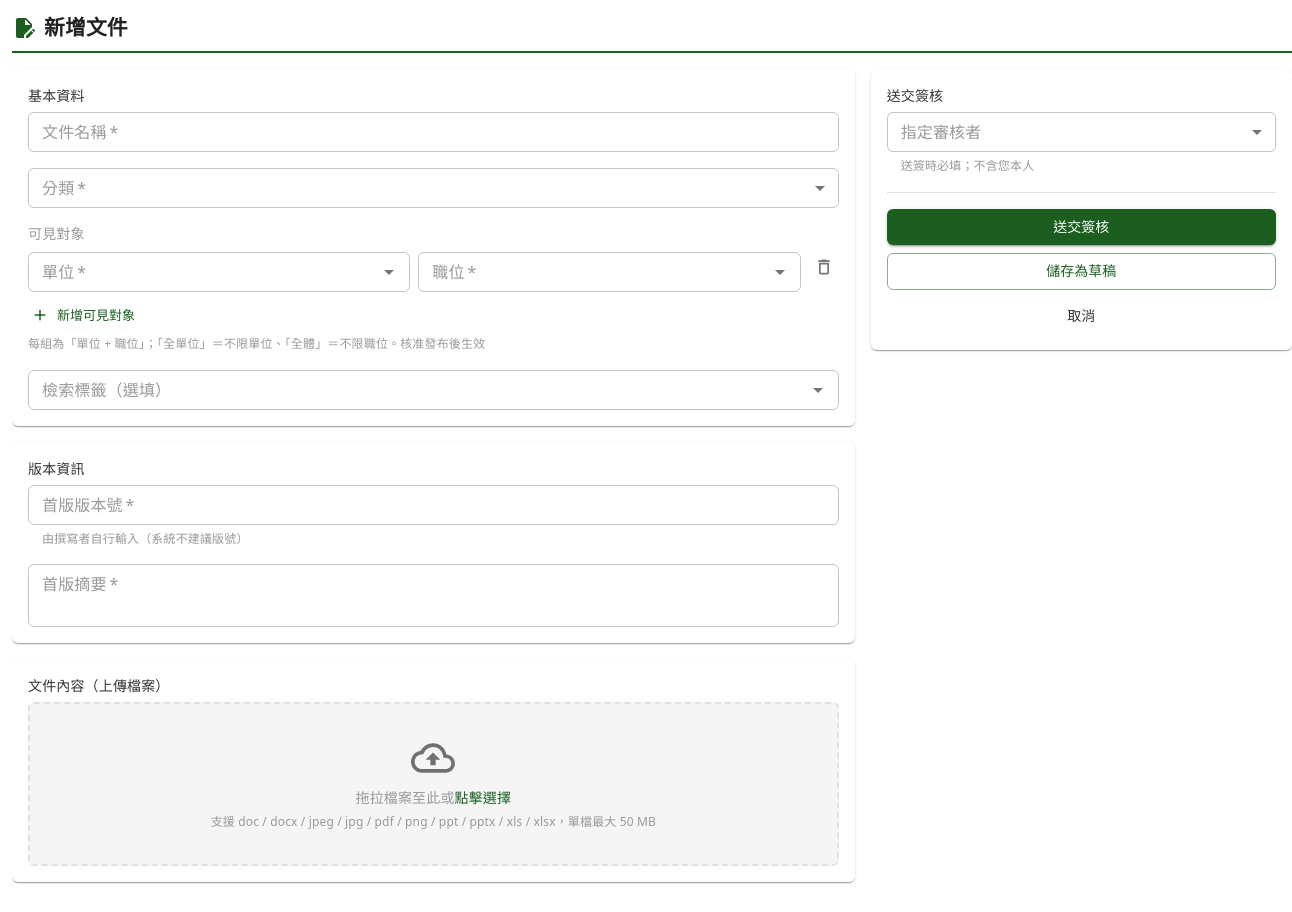
Test: DmEditorPage 文件新增與編輯（DM08） › 分類選『訓練教材』→ 隱藏可見對象欄並說明不需設定（#377）
This screenshot has width=1292, height=912.
Expected: the heading "新增文件" is shown, [44,12,128,43]
Expected: the button "新增可見對象" is shown, [28,300,140,331]
Step 1. Click the dropdown named "分類" next to "分類" → (433, 188), box [28,168,839,208]
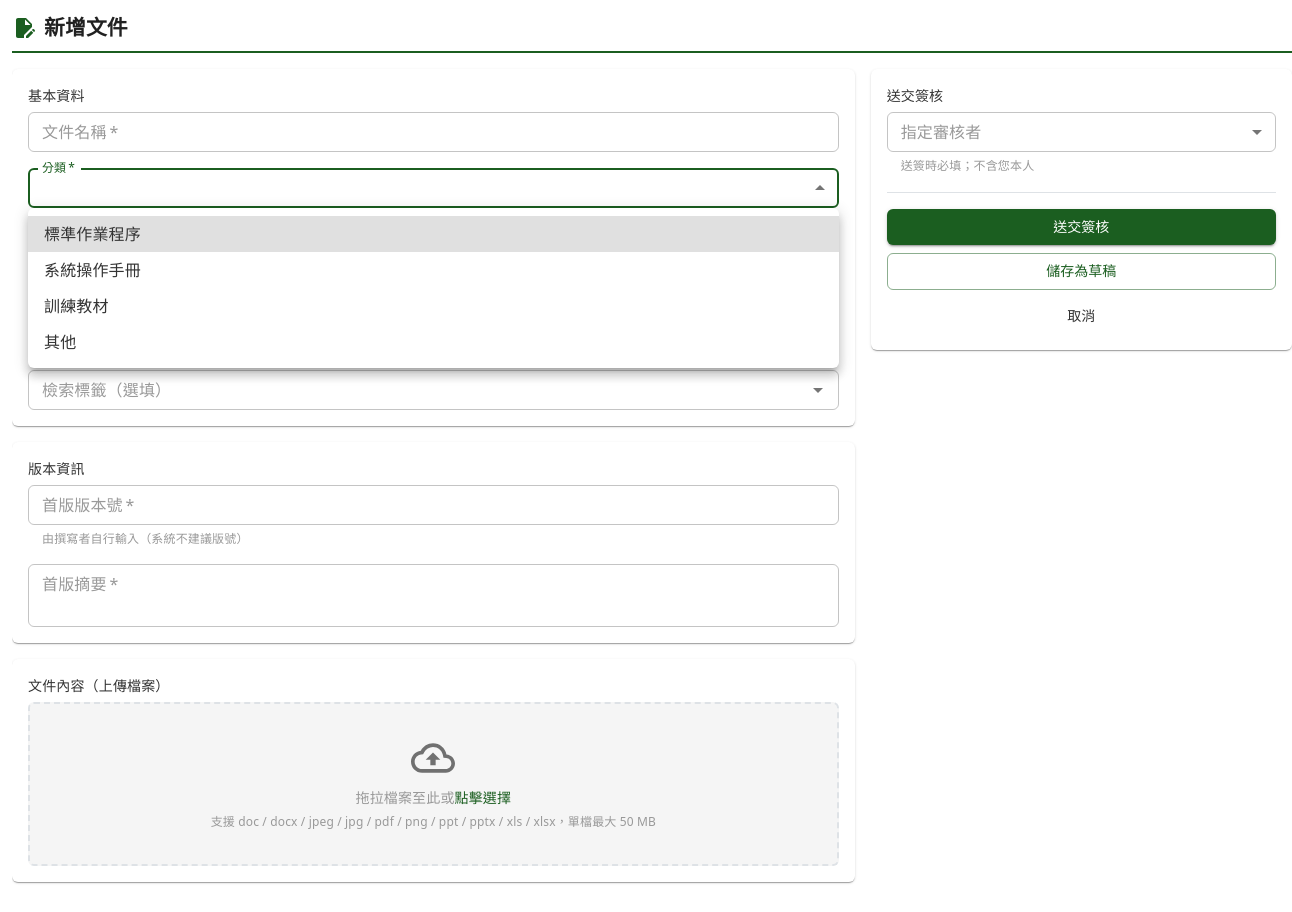
Step 2. Click the option "訓練教材" → (76, 306), box [44,295,109,317]
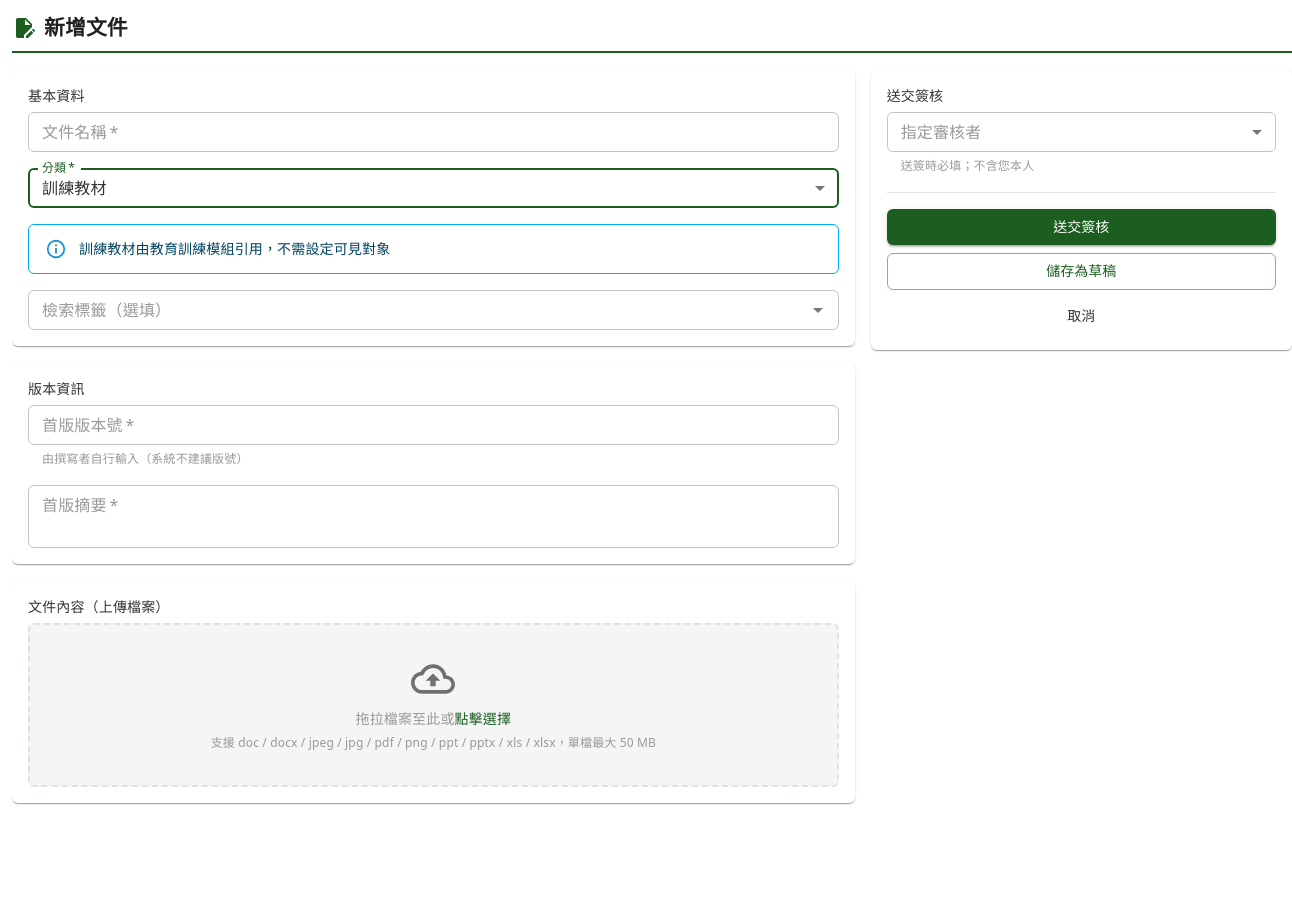
Now the button "新增可見對象" is gone
Now the text "訓練教材由教育訓練模組引用，不需設定可見對象" is shown, box [79,239,390,258]
